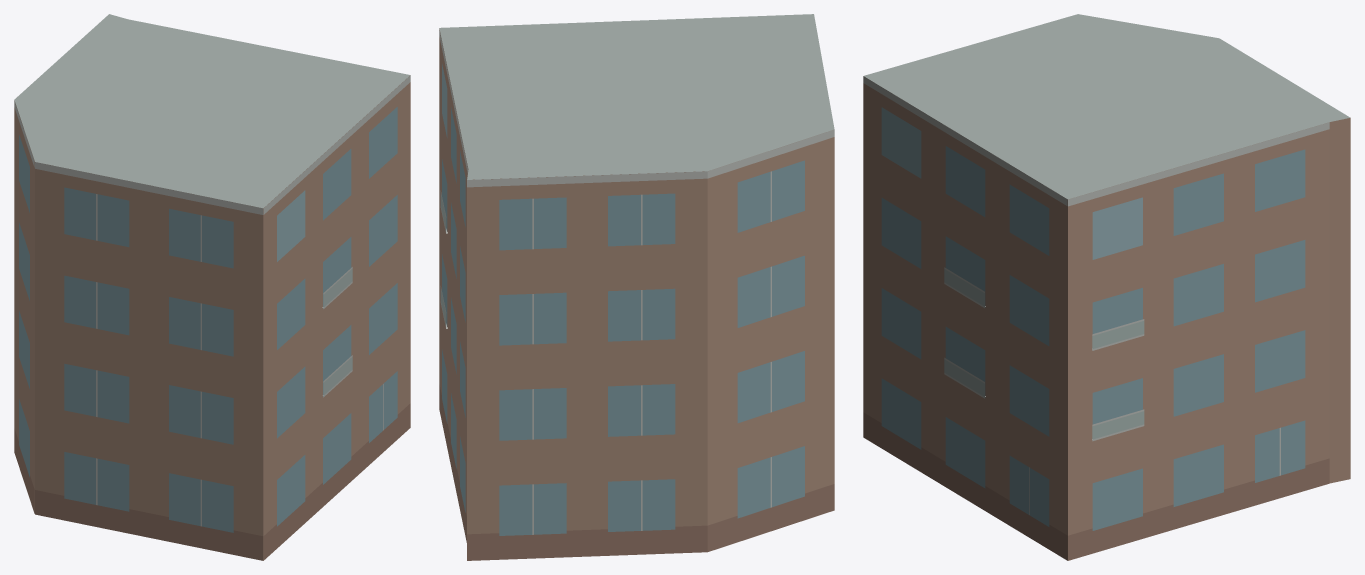
File: survey-upis-32822343.glb
The picture shows the model from 3 angles, left to right: view 1: azimuth 30°, elevation 25°; view 2: azimuth 150°, elevation 25°; view 3: azimuth 270°, elevation 25°; orthographic projection. The views are drawn at different scales.
Parts seen in each view (by area): view 1: survey-upis-32822343.tmp; view 2: survey-upis-32822343.tmp; view 3: survey-upis-32822343.tmp.
Boxes of the visible parts, bbox=[...] form: survey-upis-32822343.tmp: bbox=[14, 14, 410, 560]; survey-upis-32822343.tmp: bbox=[439, 14, 834, 560]; survey-upis-32822343.tmp: bbox=[863, 14, 1350, 560].
Size of the model in its own units: 13.82 by 12.55 by 15.35.
